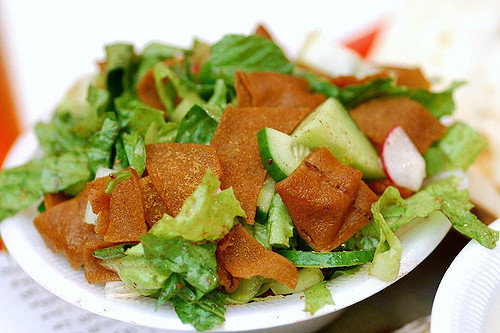chopped lettuce: (33, 47, 213, 144), (152, 187, 220, 306)
